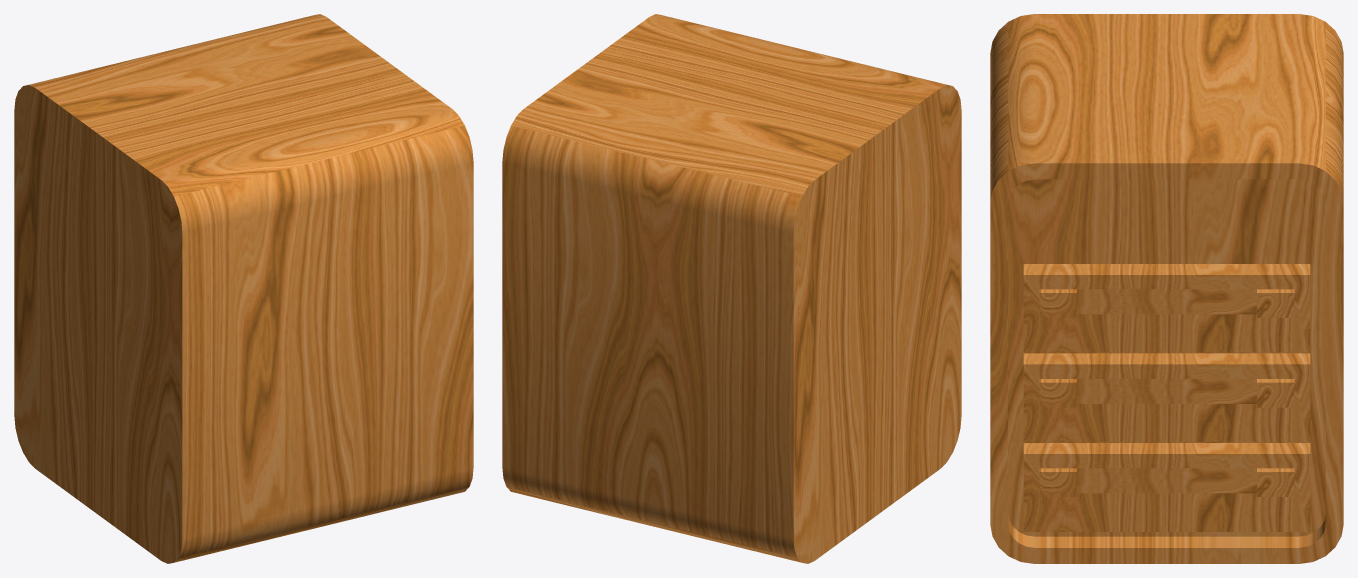
Rendered from Nightstand.fbx.
3 renders of one model, left to right at view 1: azimuth 30°, elevation 25°; view 2: azimuth 150°, elevation 25°; view 3: azimuth 270°, elevation 25°, orthographic. The views are drawn at different scales.
Visible parts, largest first — view 1: Nightstand; view 2: Nightstand; view 3: Nightstand.
Boxes of the visible parts, <box> form: Nightstand: <box>14,14,473,563</box>; Nightstand: <box>502,14,961,563</box>; Nightstand: <box>990,14,1343,563</box>.
Bounding box in the file's own units: 205 × 250 × 200.
1 material, 1 textured.
